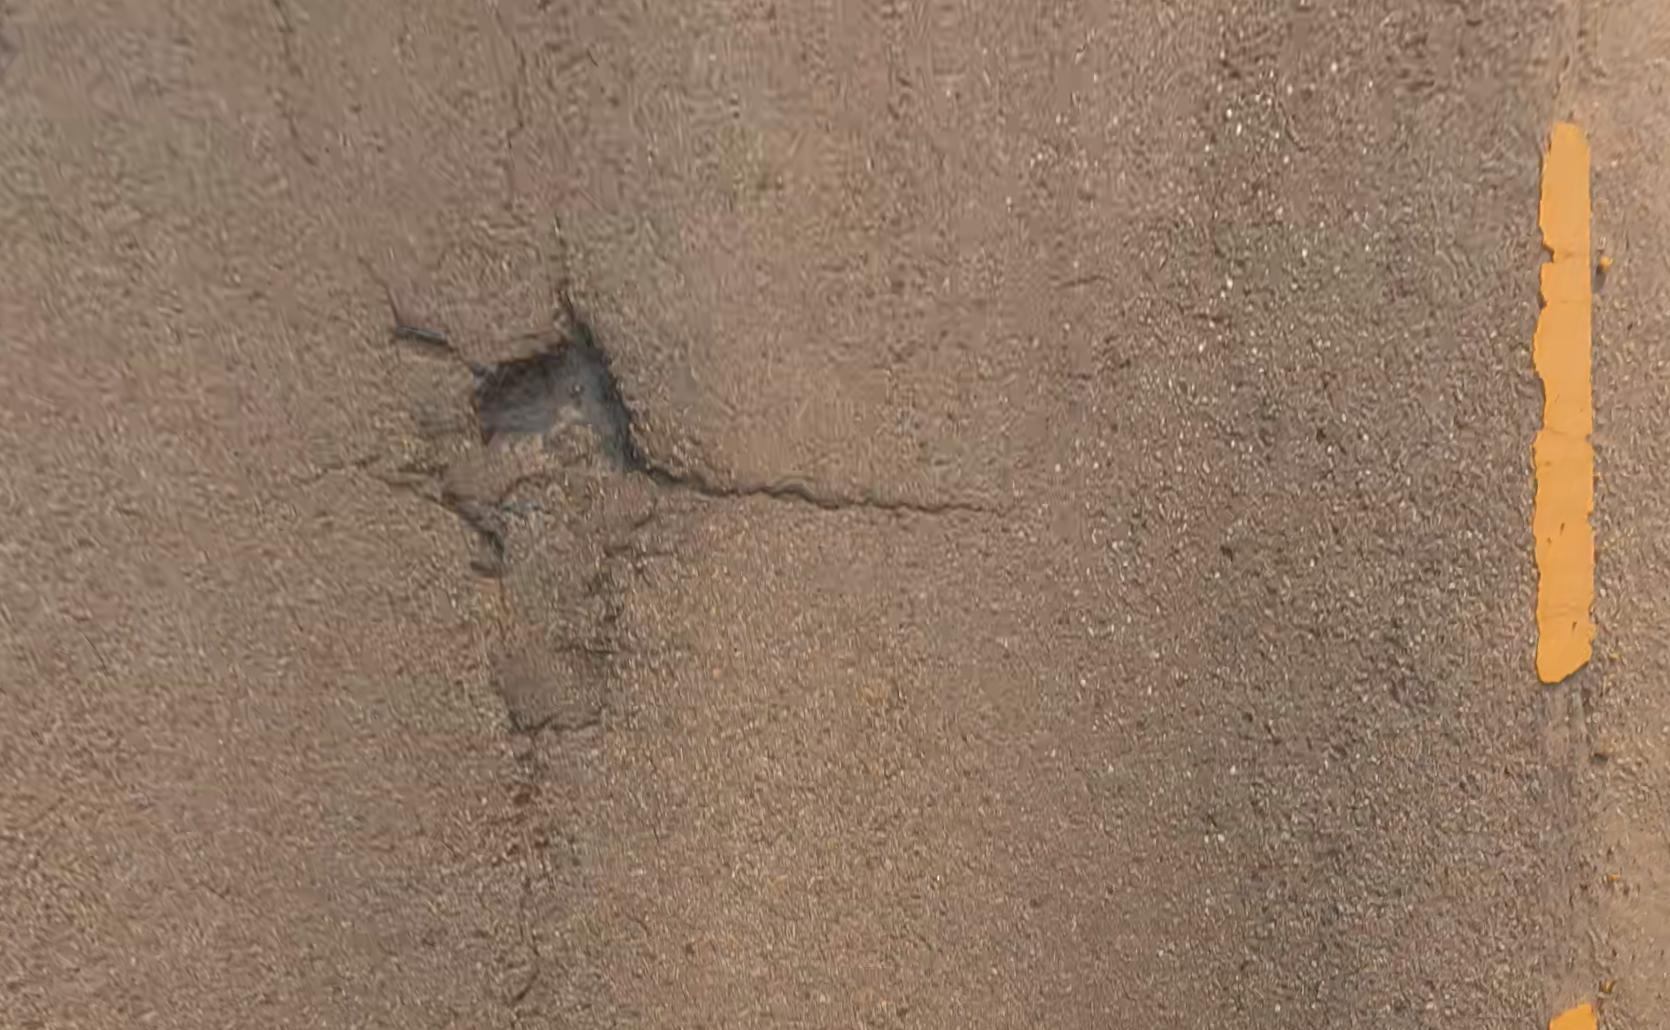pothole: (454, 329, 650, 483)
